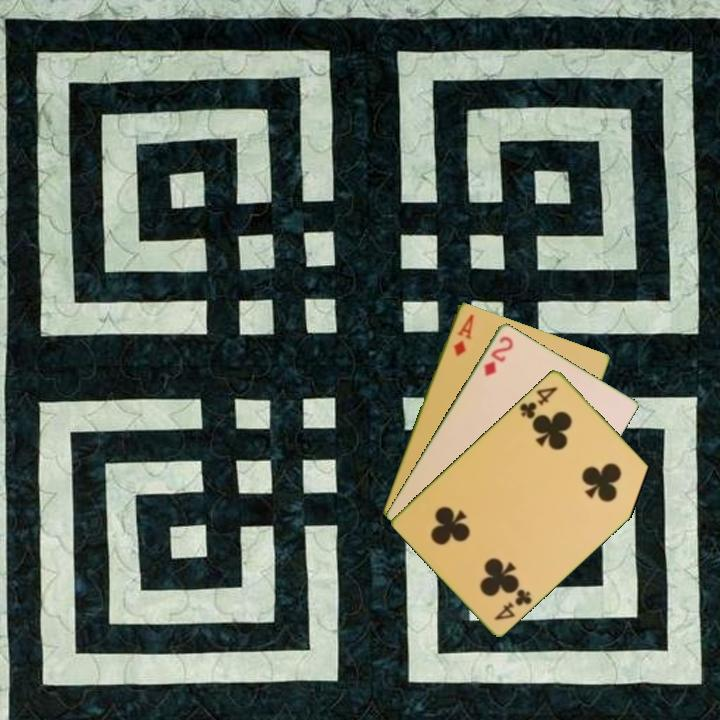2d: (480, 332, 516, 379)
4c: (516, 382, 561, 421), (491, 585, 535, 623)
Ad: (449, 310, 476, 359)
